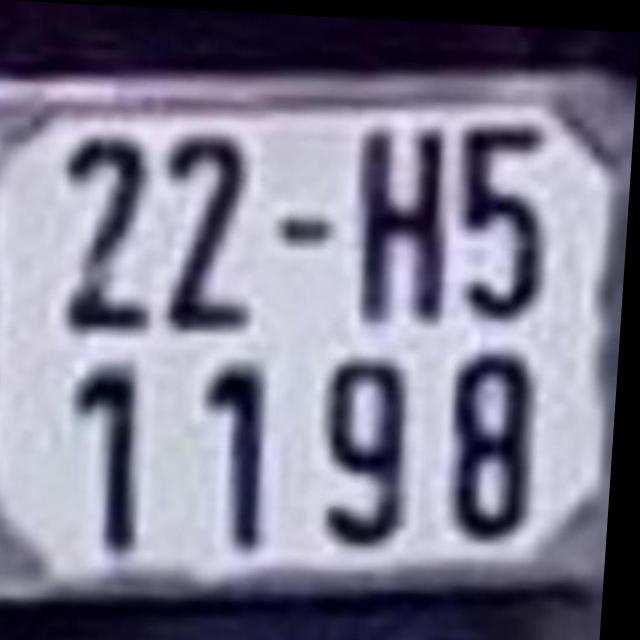1: (72, 354, 155, 552), (199, 348, 280, 548)
2: (56, 125, 165, 330), (164, 123, 264, 334)
5: (455, 115, 555, 314)
8: (453, 336, 542, 532)
9: (324, 347, 417, 540)
H: (349, 118, 461, 323)
